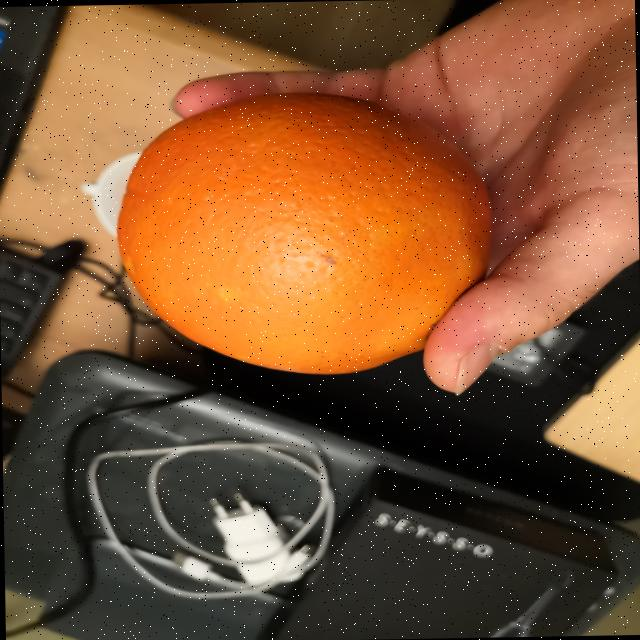orange: (117, 91, 490, 373)
